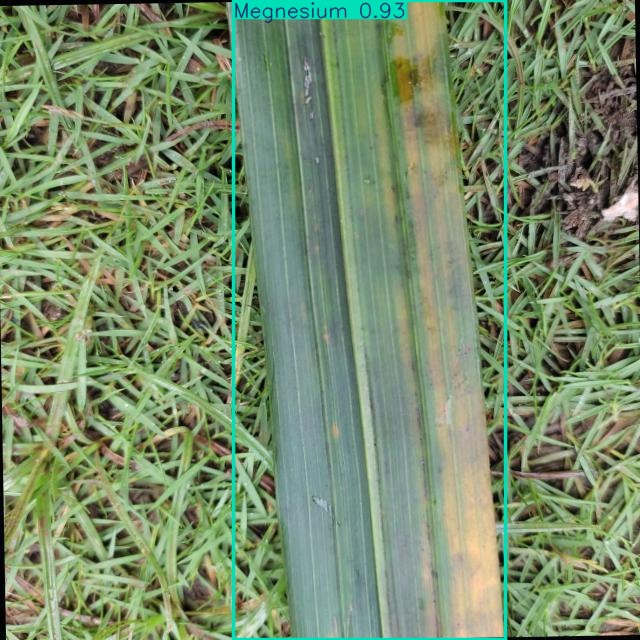Megnesium: (233, 1, 505, 639)
